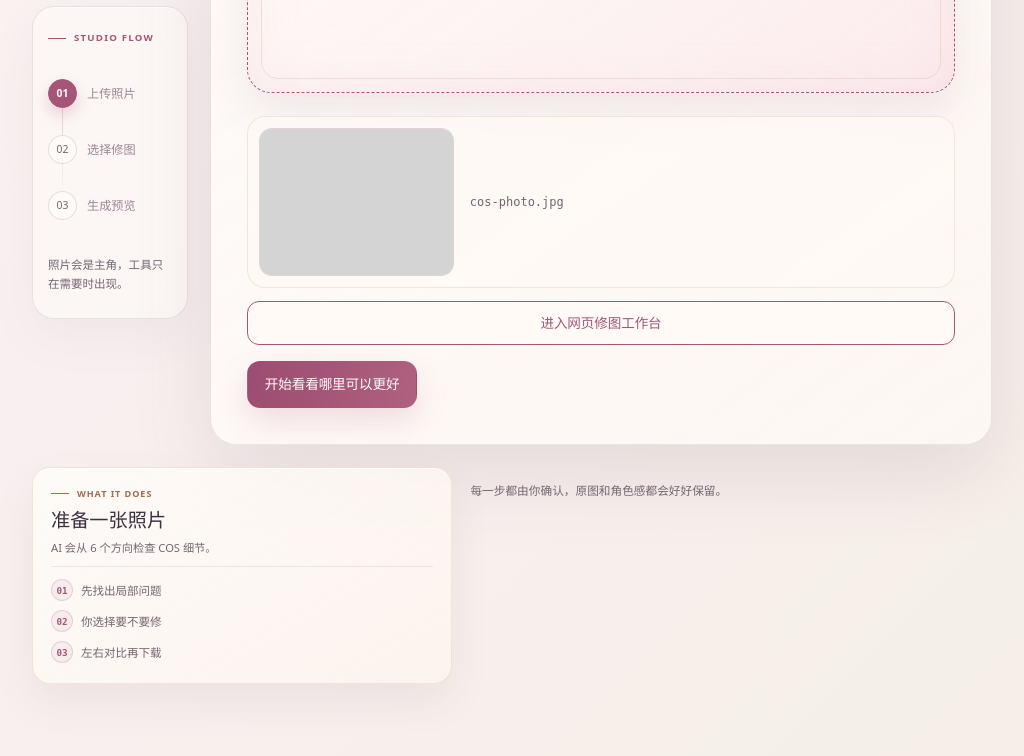
Test: COS retouch app › syncs a provider failure task back into App and shows retryable progress
Earlier steps of the test are not shown.
(page scrolled)
Step 1. Click the button "开始看看哪里可以更好" → (332, 384), box [247,361,417,408]
(page scrolled)
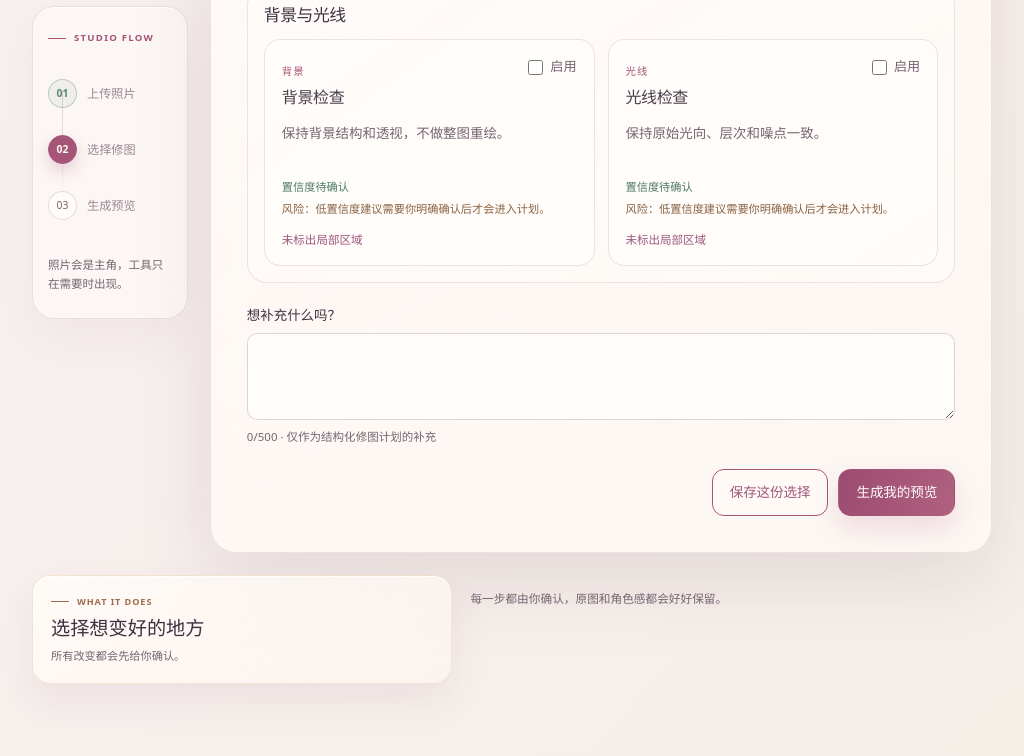
Step 2. Click the button "生成我的预览" → (897, 493), box [838,469,955,516]
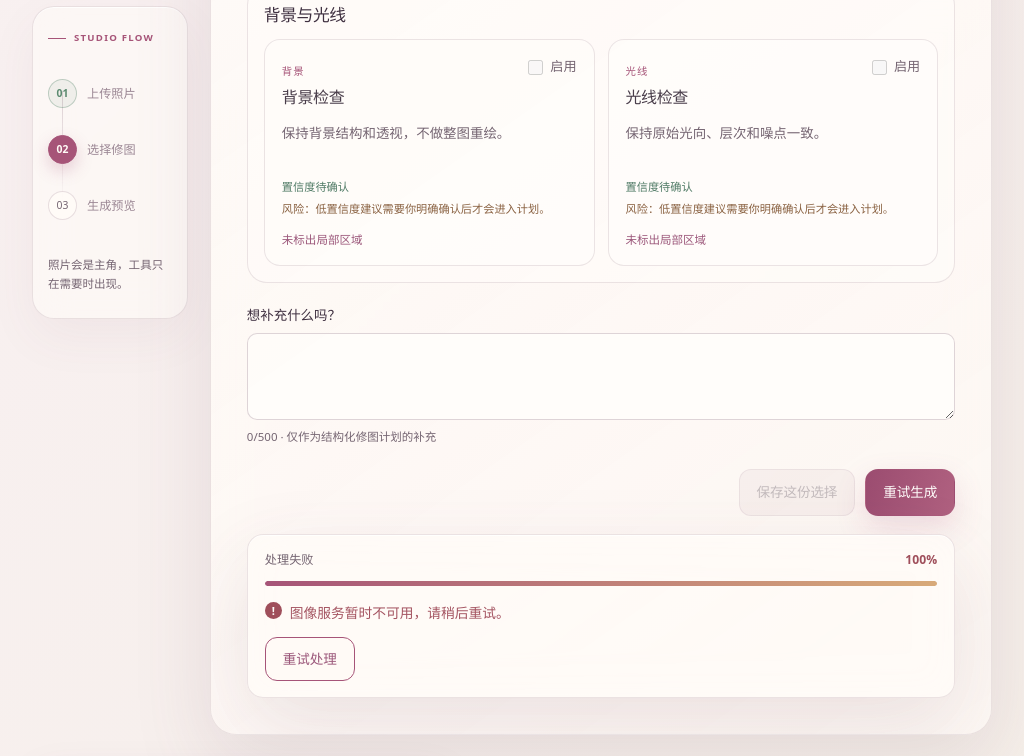
Expected: the button "重试生成" is enabled, [865,469,955,516]
Expected: the text "处理失败" is shown, [265,551,313,569]
Expected: the text "图像服务暂时不可用，请稍后重试。" is shown, [290,603,510,622]
